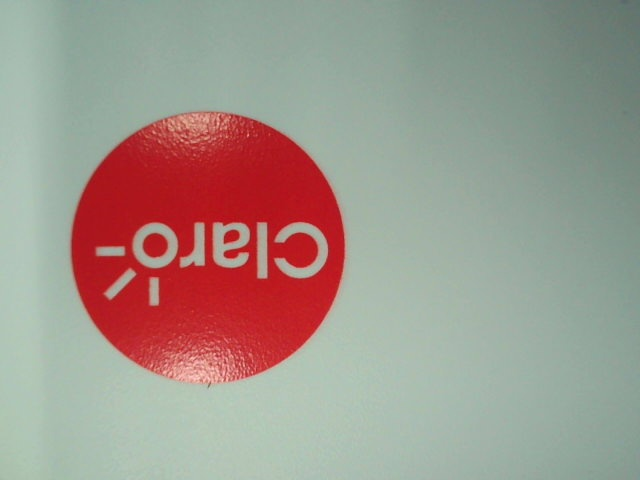BC_ClaorRed: (60, 108, 357, 386)
